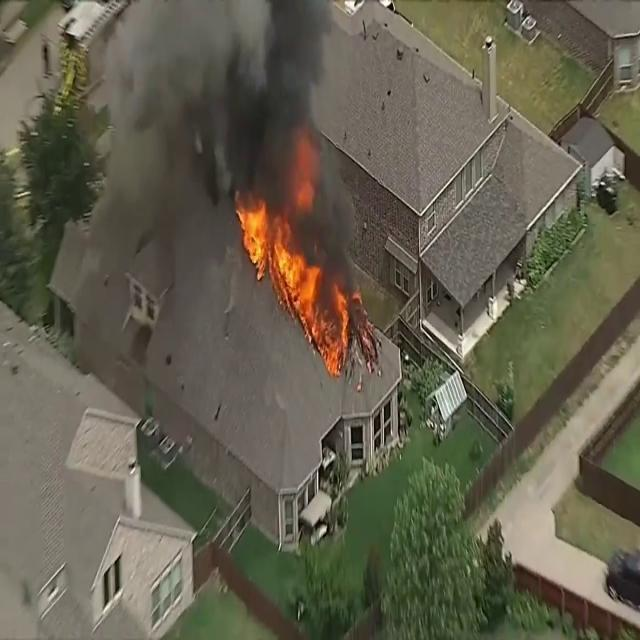Fire: (238, 182, 354, 368)
Smoke: (78, 1, 350, 214)
